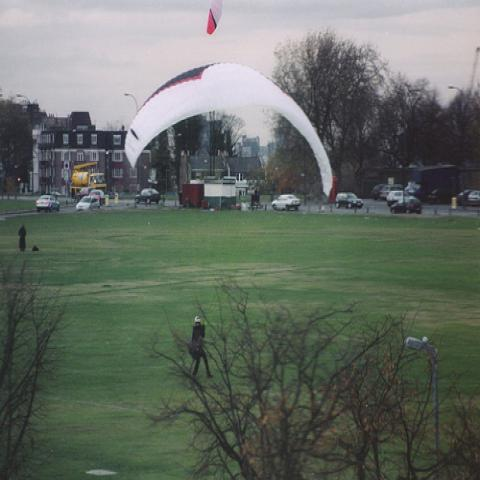car: (390, 196, 422, 214), (335, 192, 364, 209), (36, 195, 61, 214), (135, 187, 161, 204), (428, 188, 453, 204), (272, 196, 300, 210), (387, 190, 409, 207), (380, 185, 403, 200), (456, 188, 472, 206), (76, 197, 93, 212), (372, 184, 386, 200), (89, 188, 105, 200), (468, 190, 479, 207)
truck: (70, 162, 106, 196)
